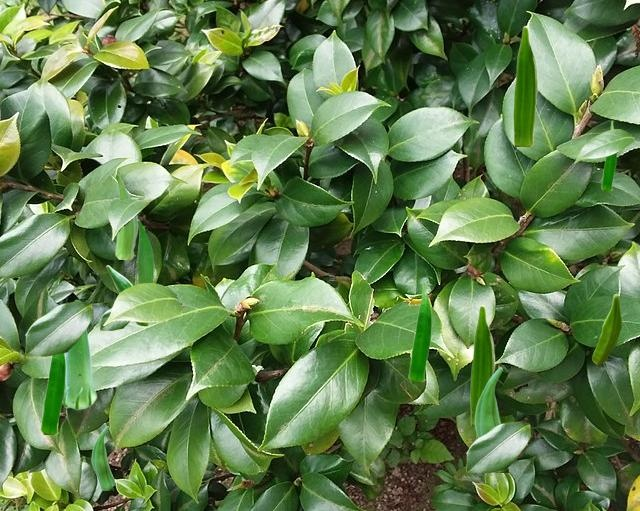okra: (474, 366, 510, 471), (63, 299, 96, 409), (470, 304, 494, 424), (513, 25, 537, 145), (106, 265, 147, 324), (408, 280, 431, 380), (40, 354, 65, 433), (592, 294, 620, 363), (115, 174, 137, 258), (91, 425, 113, 489), (601, 120, 616, 189), (137, 219, 152, 282)
